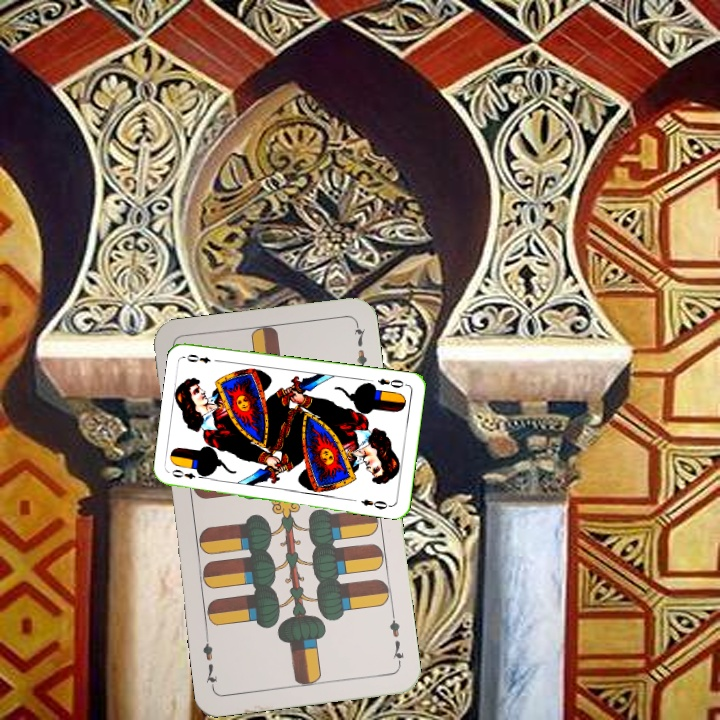E7: (385, 609, 407, 668)
EO: (374, 374, 410, 391), (168, 466, 198, 482)
